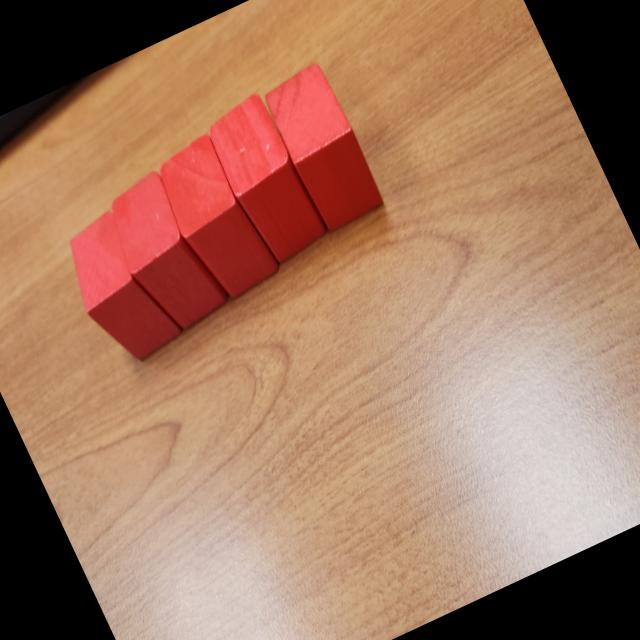red: (146, 127, 286, 308), (94, 163, 234, 342), (198, 90, 334, 272), (50, 200, 189, 374), (257, 59, 390, 236)
